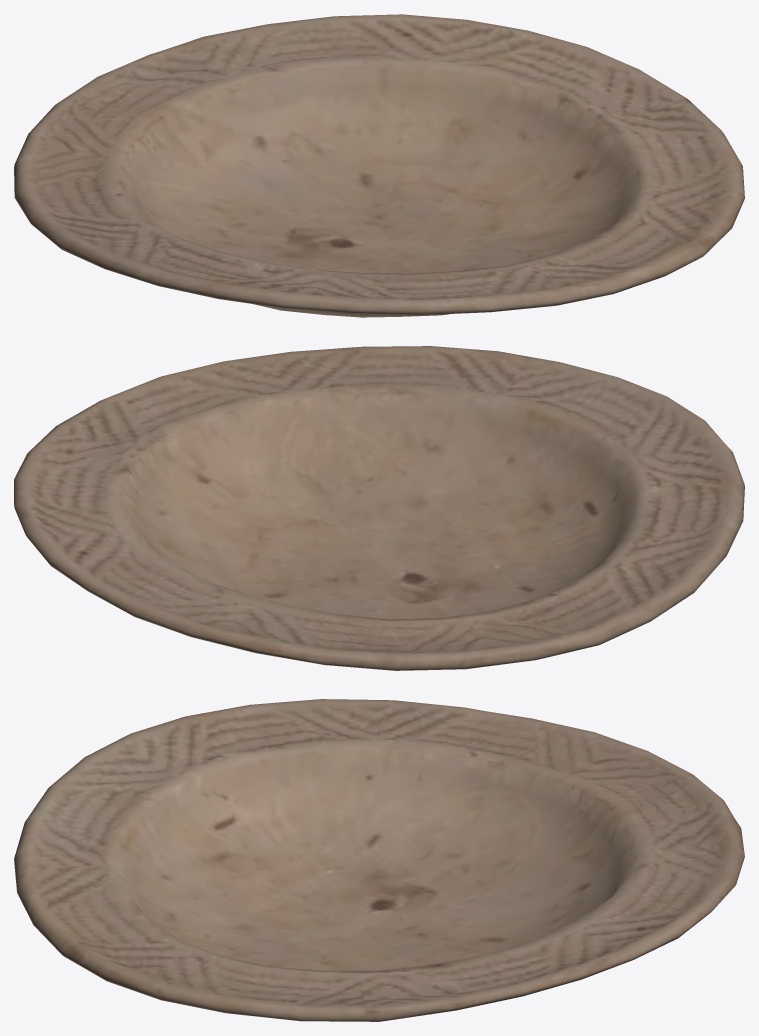
File: carved_wooden_plate.glb
The picture shows the model from 3 angles, top to bottom: view 1: azimuth 30°, elevation 25°; view 2: azimuth 150°, elevation 25°; view 3: azimuth 270°, elevation 25°; orthographic projection. The views are drawn at different scales.
Parts seen in each view (by area): view 1: carved_wooden_plate; view 2: carved_wooden_plate; view 3: carved_wooden_plate.
Boxes of the visible parts, <box> form: carved_wooden_plate: <box>14,14,744,317</box>; carved_wooden_plate: <box>14,346,744,670</box>; carved_wooden_plate: <box>14,699,744,1021</box>.
Size of the model in its own units: 0.2718 by 0.0381 by 0.2688.
Materials: 1 (1 with a texture image).
